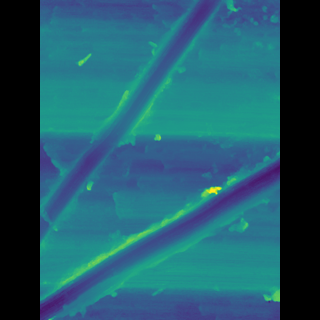Loch: (69, 0, 208, 254), (68, 152, 250, 319)
